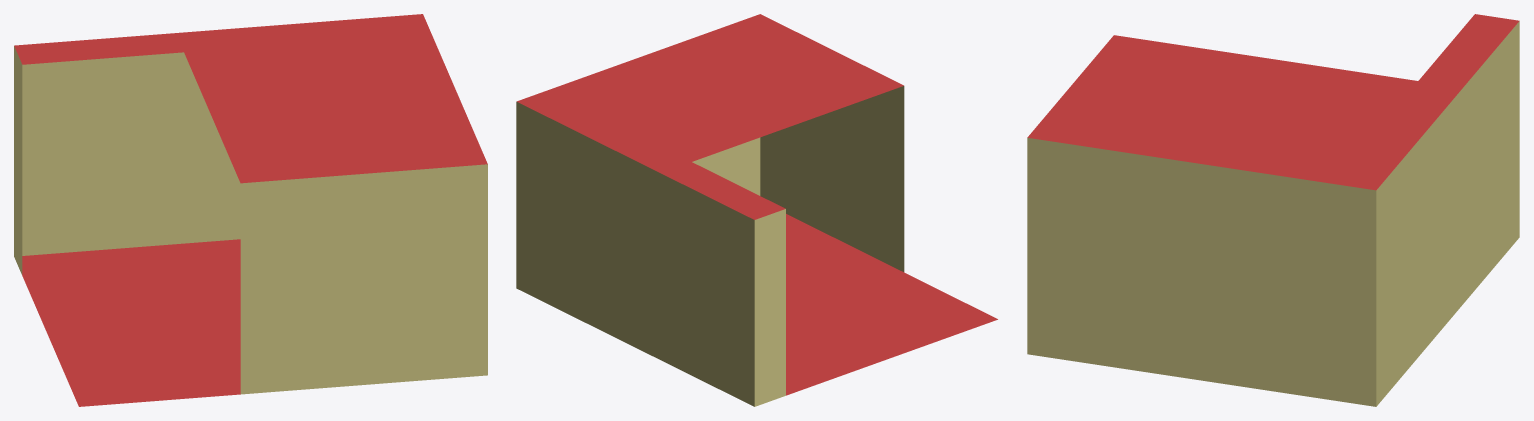
3 renders of one model, left to right at view 1: azimuth 30°, elevation 25°; view 2: azimuth 150°, elevation 25°; view 3: azimuth 270°, elevation 25°, orthographic. The views are drawn at different scales.
Bounding box in the file's own units: 12.83 × 12.01 × 5.83.
